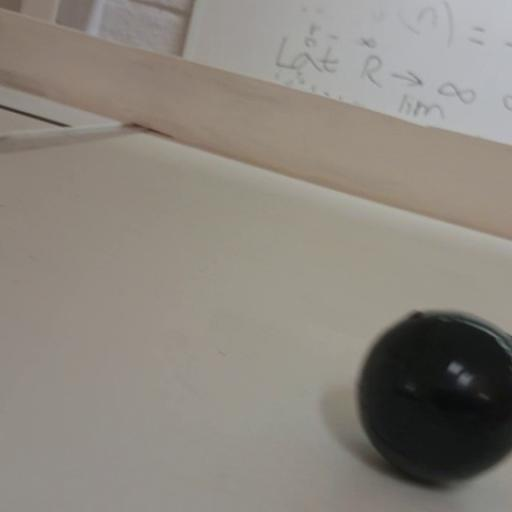dead: (355, 310, 510, 486)
